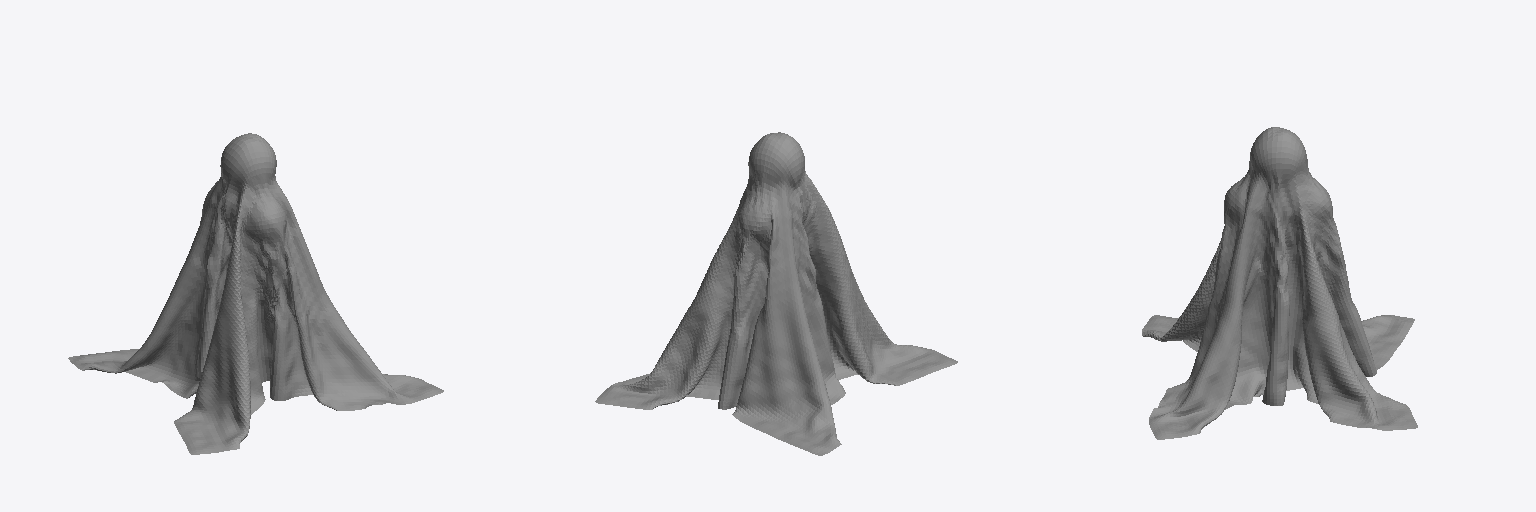
Rendered from Halloween_Ghost.obj.
The picture shows the model from 3 angles: view 1: azimuth 30°, elevation 25°; view 2: azimuth 150°, elevation 25°; view 3: azimuth 270°, elevation 25°; orthographic projection.
Visible parts, largest first — view 1: Ghost_Plane.007; view 2: Ghost_Plane.007; view 3: Ghost_Plane.007.
Part boxes in pixels (bbox=[...]): Ghost_Plane.007: bbox=[68, 133, 443, 454]; Ghost_Plane.007: bbox=[595, 132, 957, 455]; Ghost_Plane.007: bbox=[1142, 127, 1417, 439].
Bounding box in the file's own units: 3.02 × 2.75 × 2.83.